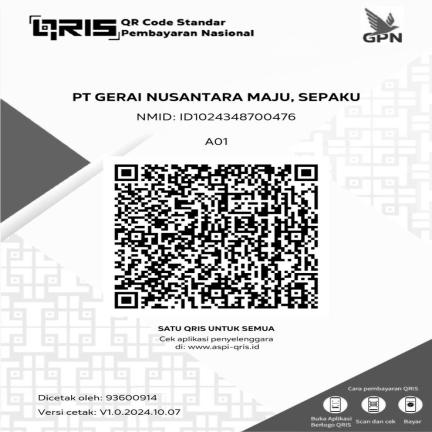Cara Pakai QRIS: (296, 383, 429, 429)
Cek Aplikasi Penyelenggara: (152, 335, 278, 353)
Dicetak Oleh: (34, 393, 161, 402)
Logo GPN: (351, 3, 415, 46)
Logo dan deskripsi QRIS: (18, 16, 265, 43)
Nama Merchant: (65, 88, 371, 105)
National Merchant ID: (129, 112, 302, 123)
QR Code: (103, 157, 330, 315)
Slogan: (152, 324, 279, 333)
Terminal ID: (195, 135, 235, 147)
Versi Cetak: (35, 406, 185, 418)
